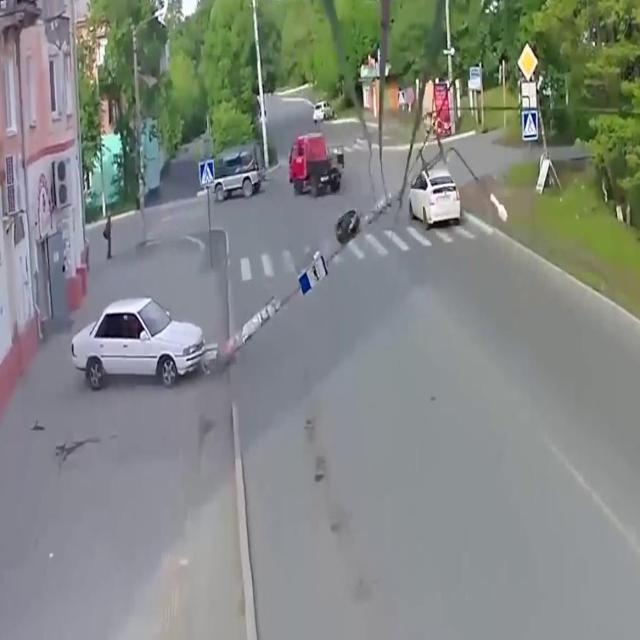accident: (53, 281, 260, 408)
non_accident: (210, 125, 350, 207)
